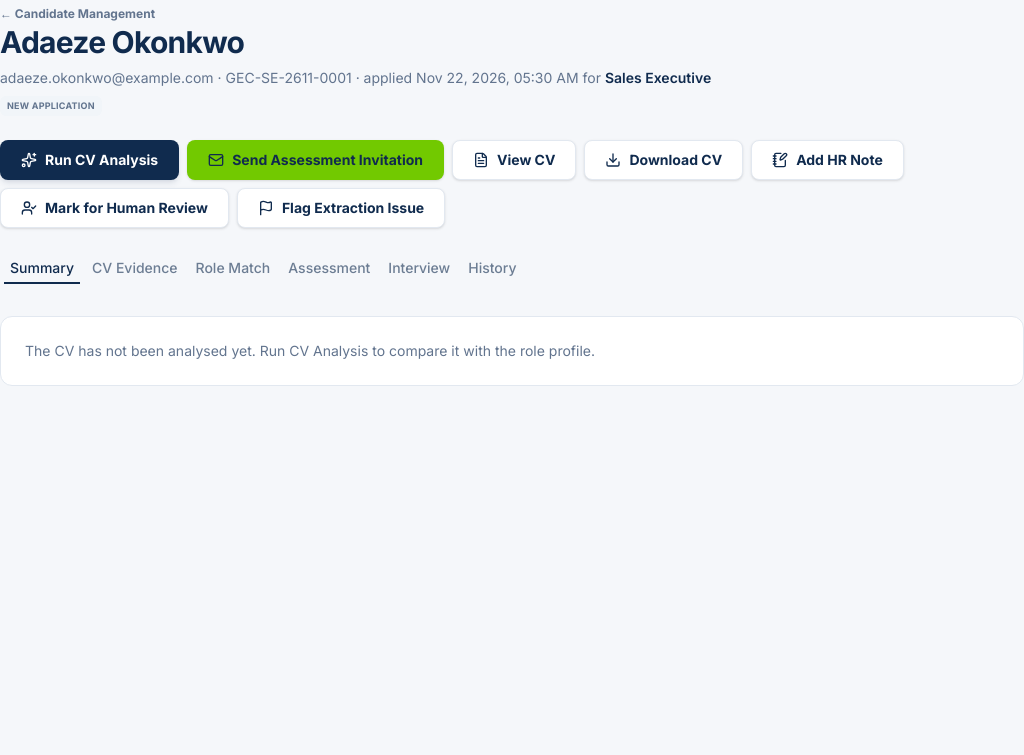
Test: HR assessment tab › sends the invitation from the profile and scores a written answer after submission
This screenshot has width=1024, height=755.
Later steps or results of the test are not shown.
Click the button "Send Assessment Invitation" at (316,160), box x1=187 y1=140 x2=444 y2=180
(page scrolled)
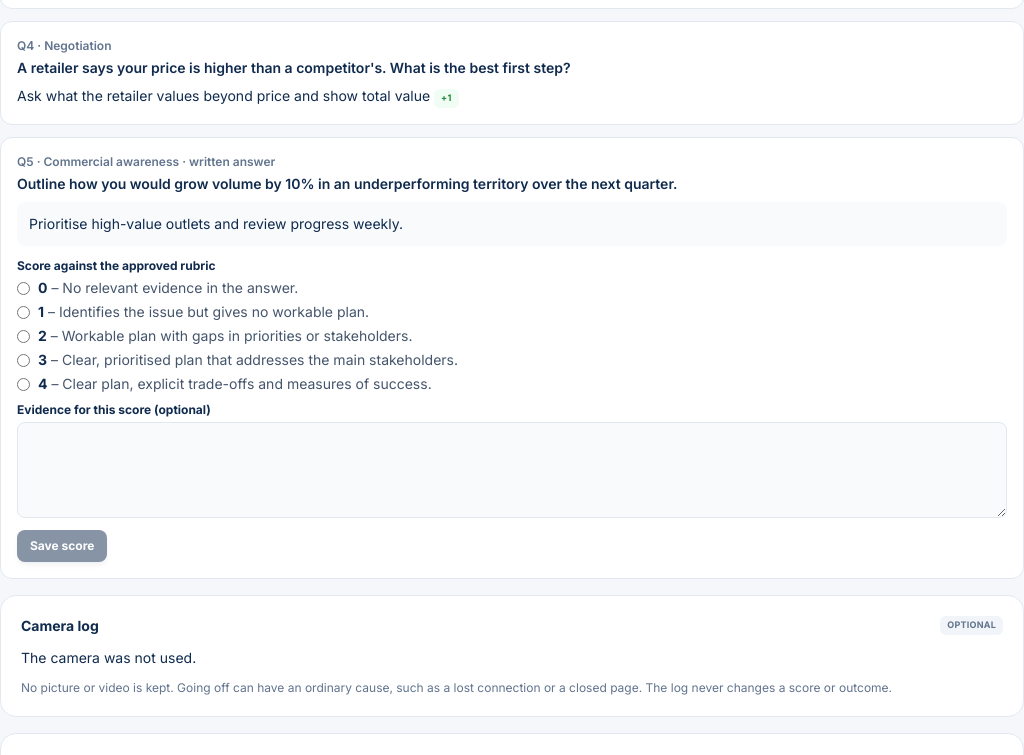
Click the radio button with aria-label "Score 4" at (24,384), box x1=17 y1=378 x2=30 y2=391
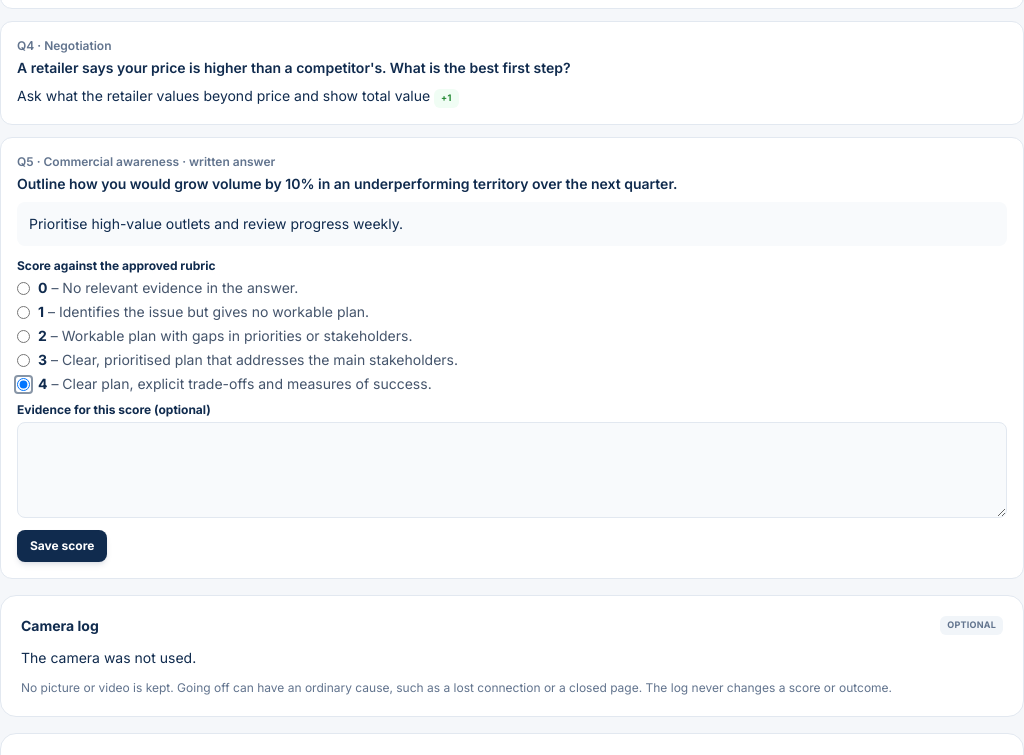
Click the button "Save score" at (62,546), box x1=17 y1=530 x2=108 y2=562
(page scrolled)
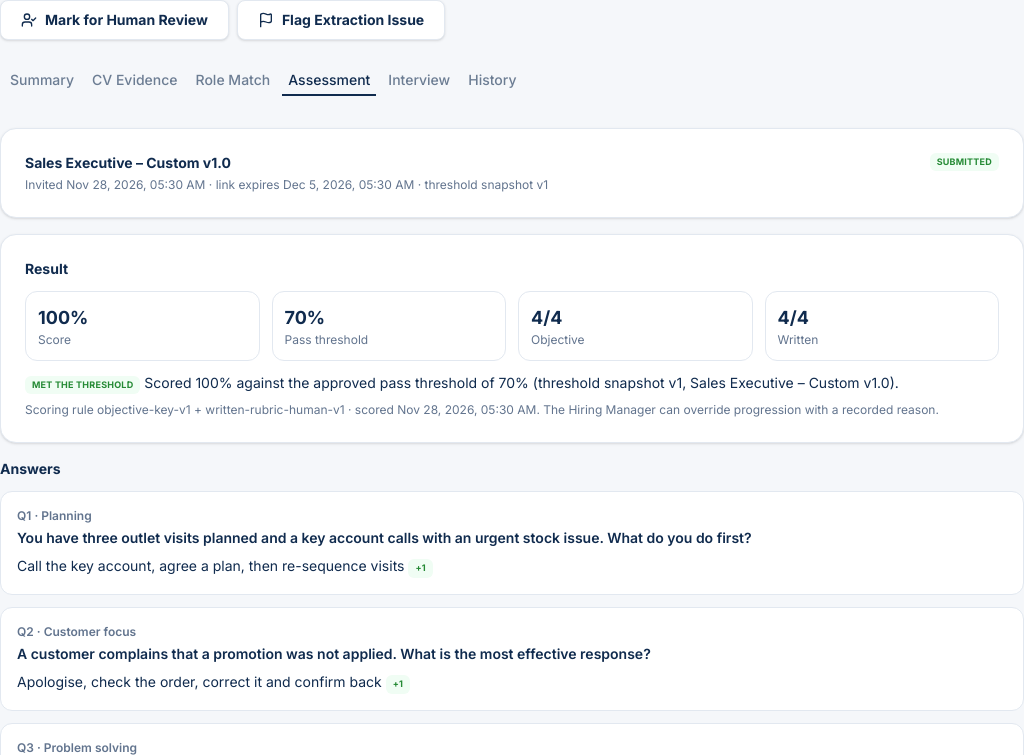
expect the text "Met the threshold" is shown: met, box x1=25 y1=376 x2=140 y2=394
